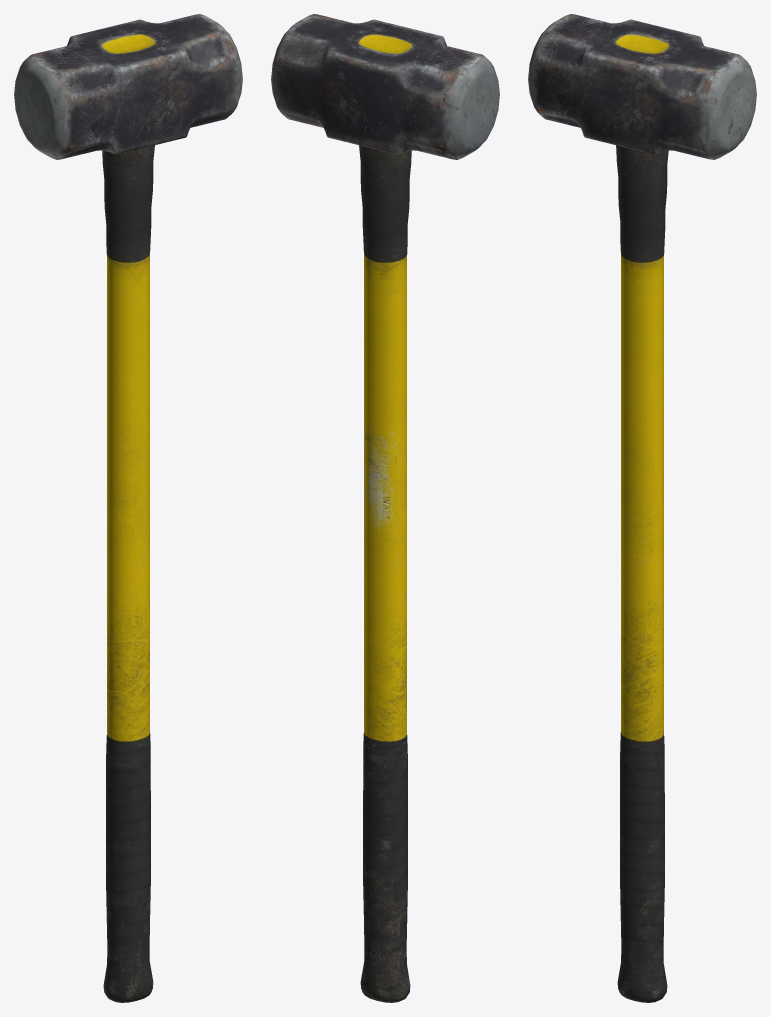
Rendered from sledgehammer_01.glb.
3 views of the same model, side by side, from view 1: azimuth 30°, elevation 25°; view 2: azimuth 150°, elevation 25°; view 3: azimuth 330°, elevation 25° (orthographic).
Visible parts, largest first — view 1: sledgehammer_01; view 2: sledgehammer_01; view 3: sledgehammer_01.
Part boxes in pixels (bbox=[...]): sledgehammer_01: bbox=[14, 14, 242, 1002]; sledgehammer_01: bbox=[271, 14, 499, 1002]; sledgehammer_01: bbox=[528, 14, 756, 1002].
Bounding box in the file's own units: 0.2085 × 1.01 × 0.0905.
1 material, 1 textured.
